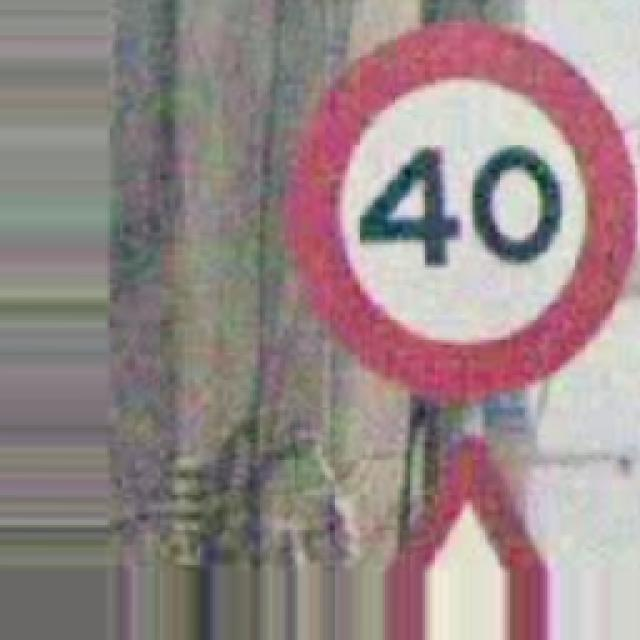Speed Limit -40-: (288, 22, 635, 402)
